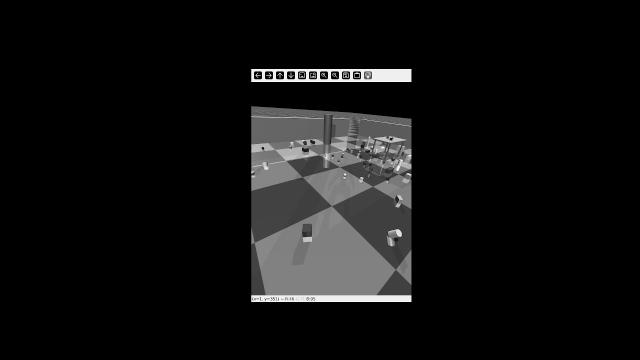cilindro: (322, 112, 335, 146), (379, 223, 403, 240), (262, 160, 270, 169), (308, 138, 317, 145), (385, 177, 392, 183), (397, 159, 404, 165), (400, 151, 406, 156), (360, 154, 364, 160), (361, 162, 367, 165), (392, 136, 395, 138)
cuadrado: (300, 222, 314, 239), (395, 144, 405, 153), (367, 136, 372, 144), (360, 144, 365, 149), (388, 137, 394, 141), (382, 160, 387, 164), (350, 149, 354, 153), (341, 155, 345, 159), (290, 141, 294, 144), (304, 140, 307, 144), (361, 177, 363, 183), (367, 163, 371, 165)
esfera: (250, 169, 256, 175), (260, 146, 265, 150), (391, 155, 395, 160), (289, 144, 293, 149), (343, 173, 347, 177), (370, 146, 374, 150), (386, 135, 389, 139), (337, 159, 340, 162), (370, 167, 373, 170), (302, 140, 304, 142), (359, 151, 361, 153)
rectangulo: (395, 194, 404, 205), (385, 167, 396, 173), (407, 154, 412, 159), (303, 148, 309, 152), (365, 150, 371, 154), (331, 153, 335, 158), (304, 145, 307, 148)
